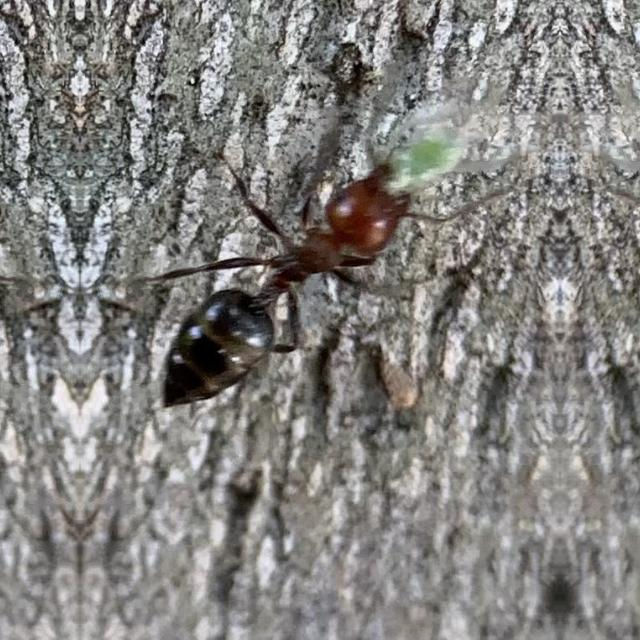Crematogaster: (149, 148, 411, 416)
